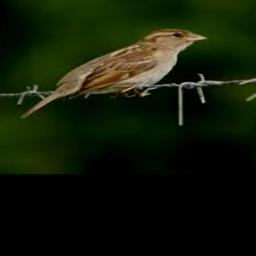Sparrow: (18, 28, 208, 118)
